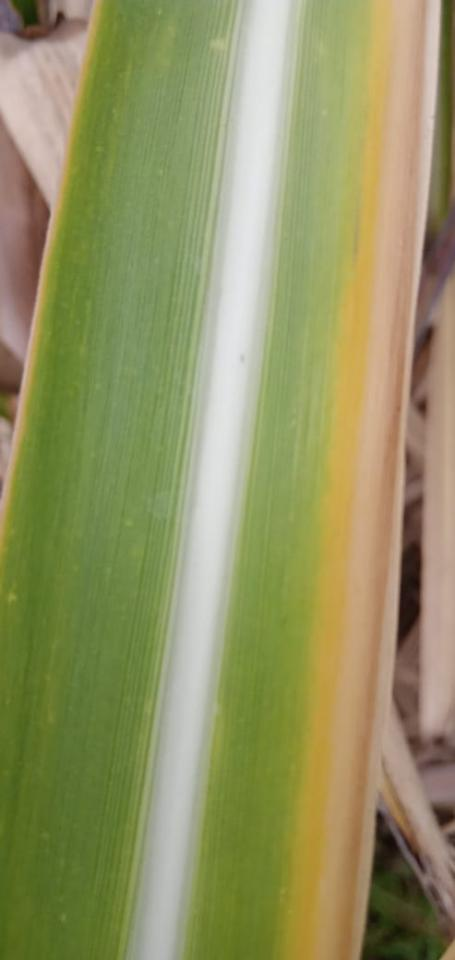Yellow: (289, 0, 442, 959), (0, 0, 104, 534)
